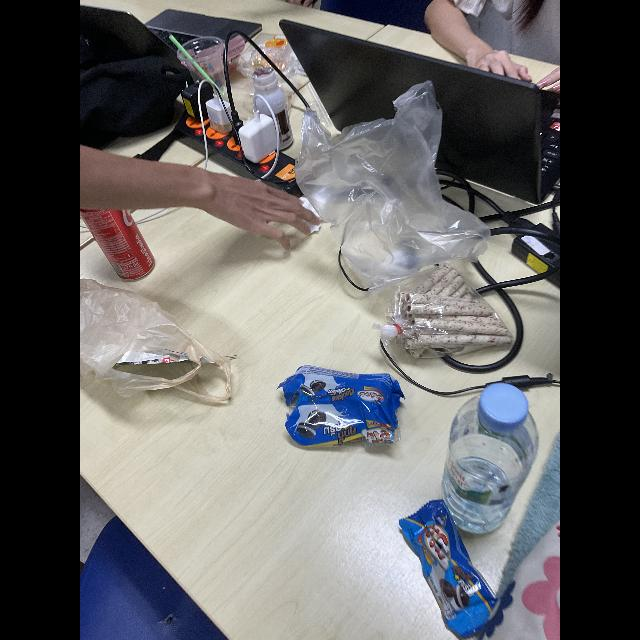can: (80, 188, 160, 288)
plastic_bag: (297, 82, 491, 288), (80, 272, 242, 412)
plastic_bottle: (442, 380, 542, 538), (251, 63, 299, 153)
plastic_bottle_cap: (469, 377, 535, 435)
plastic_box: (240, 26, 300, 80)
plastic_cup: (176, 32, 232, 100)
snack_bag: (394, 496, 510, 640), (375, 256, 517, 360), (276, 359, 406, 455)
straw: (171, 34, 219, 82)
